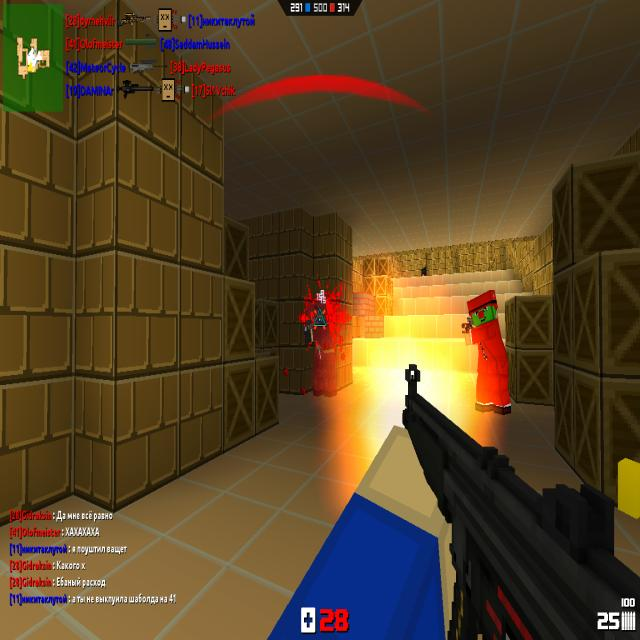enemy: (464, 288, 512, 415), (304, 296, 337, 397), (421, 266, 427, 277)
